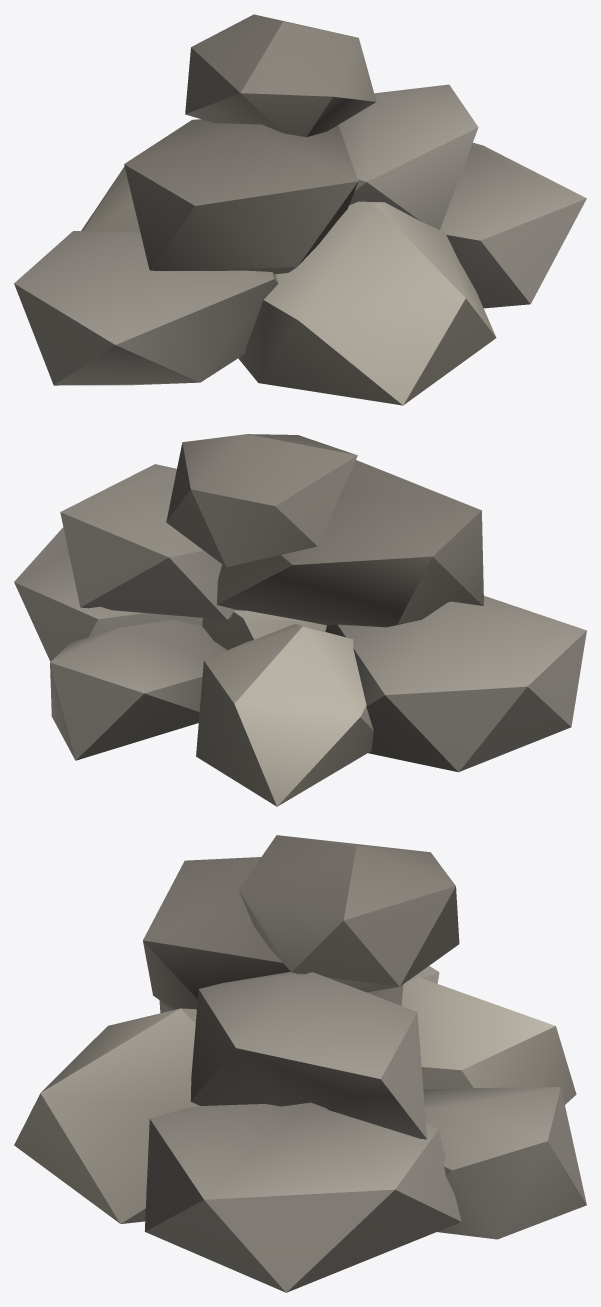
Rendered from stone_pile.glb.
3 renders of one model, top to bottom at view 1: azimuth 30°, elevation 25°; view 2: azimuth 150°, elevation 25°; view 3: azimuth 270°, elevation 25°, orthographic. The views are drawn at different scales.
Visible parts, largest first — view 1: stone_pile; view 2: stone_pile; view 3: stone_pile.
Part boxes in pixels (x1=…): stone_pile: x1=14, y1=14, x2=586, y2=405; stone_pile: x1=14, y1=434, x2=586, y2=806; stone_pile: x1=14, y1=835, x2=586, y2=1292.
Bounding box in the file's own units: 1.18 × 0.6496 × 0.957.
